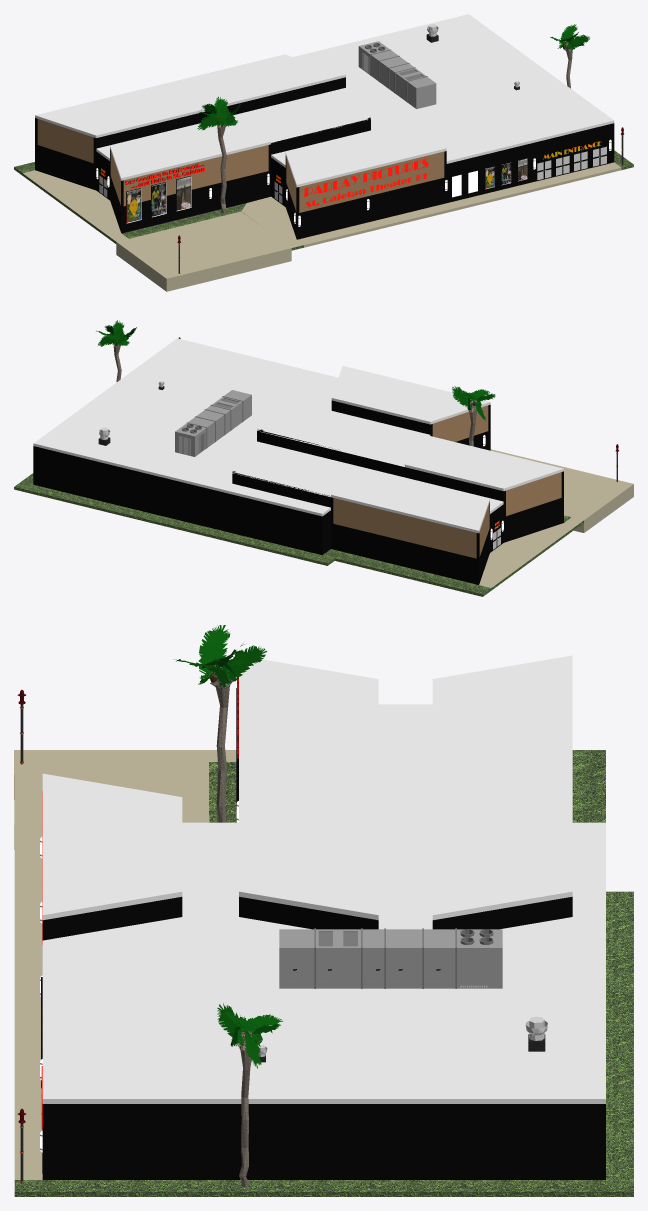
The model's file is Movie Theater.glb.
The picture shows the model from 3 angles, top to bottom: view 1: azimuth 30°, elevation 25°; view 2: azimuth 150°, elevation 25°; view 3: azimuth 270°, elevation 25°; orthographic projection. The views are drawn at different scales.
Visible parts, largest first — view 1: High Roof, Theater, Floor & Site, Undeveloped Land.001, Ext Walls, RTU, Movie Promo Poster, Doors, Text.002, Branches, Movie Promo Poster.001, Sign (+3 smaller); view 2: High Roof, Theater, Ext Walls, Floor & Site, Undeveloped Land.001, RTU, Branches, Branches.001; view 3: High Roof, Ext Walls, Floor & Site, RTU, Undeveloped Land.001, Theater, Branches, Branches.001, Trunk, Trunk.001, PRVU.
Part boxes in pixels (x1,y1,x2,y2): High Roof: (35,14,614,187); Theater: (35,77,446,239); Floor & Site: (14,150,633,250); Undeveloped Land.001: (116,211,291,291); Ext Walls: (96,123,614,206); RTU: (358,41,436,108); Movie Promo Poster: (126,176,191,223); Doors: (99,145,607,204); Text.002: (304,158,428,207); Branches: (197,96,242,130); Movie Promo Poster.001: (484,158,527,189); Sign: (125,163,204,188); High Roof: (33,338,563,533); Theater: (232,400,563,584); Ext Walls: (33,446,503,555); Floor & Site: (14,449,583,596); Undeveloped Land.001: (509,454,633,532); RTU: (175,390,251,456); Branches: (452,386,495,421); Branches.001: (96,320,136,346); High Roof: (42,655,605,1103); Ext Walls: (42,1104,605,1179); Floor & Site: (14,750,633,1196); RTU: (279,928,502,988); Undeveloped Land.001: (14,750,209,868); Theater: (42,896,572,940); Branches: (173,625,266,687); Branches.001: (217,1003,282,1068); Trunk: (208,665,232,822); Trunk.001: (237,1029,253,1187); PRVU: (258,1016,547,1062).
Bounding box in the file's own units: 58.58 × 14.49 × 33.82.
33 materials, 6 textured.
